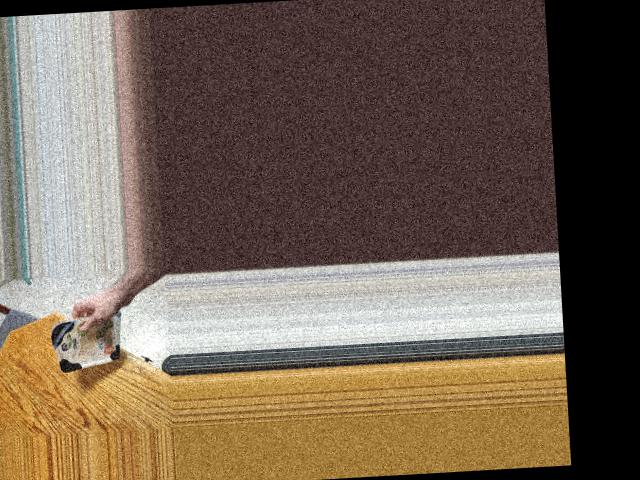cheese: (48, 305, 125, 373)
